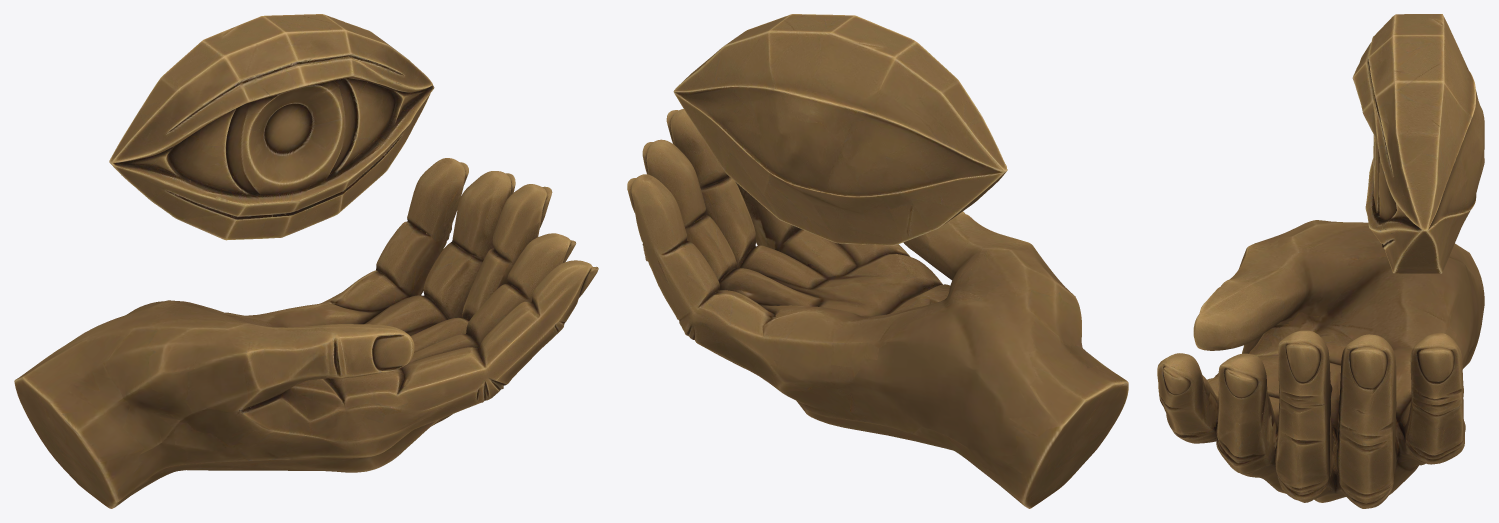
The model's file is fig-observer.glb.
The picture shows the model from 3 angles, left to right: view 1: azimuth 30°, elevation 25°; view 2: azimuth 150°, elevation 25°; view 3: azimuth 270°, elevation 25°; orthographic projection. The views are drawn at different scales.
Parts seen in each view (by area): view 1: Mesh_0; view 2: Mesh_0; view 3: Mesh_0.
Part boxes in pixels (<box>): Mesh_0: <box>14,14,598,508</box>; Mesh_0: <box>627,14,1128,508</box>; Mesh_0: <box>1157,14,1484,508</box>.
Size of the model in its own units: 1.9 by 1.64 by 1.07.
Materials: 1 (1 with a texture image).
